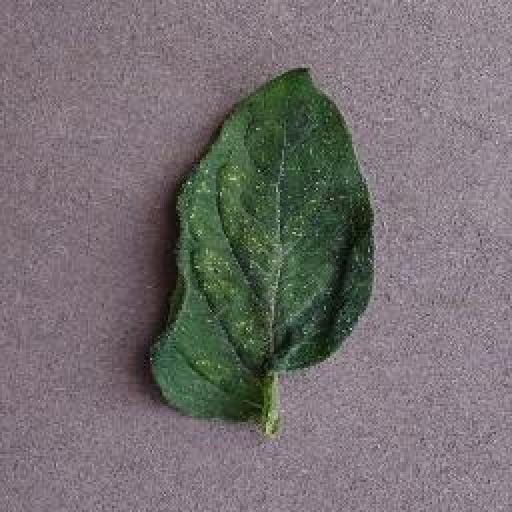Spider Mites: (145, 61, 376, 424)
